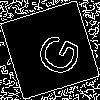G: (25, 25, 84, 81)
